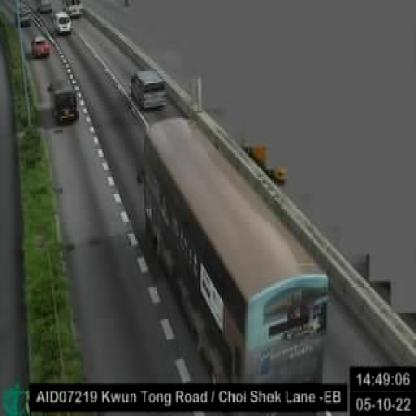Car: (50, 76, 80, 123), (130, 70, 166, 107), (52, 10, 74, 33), (30, 36, 51, 58)
Truck: (143, 114, 322, 385)
